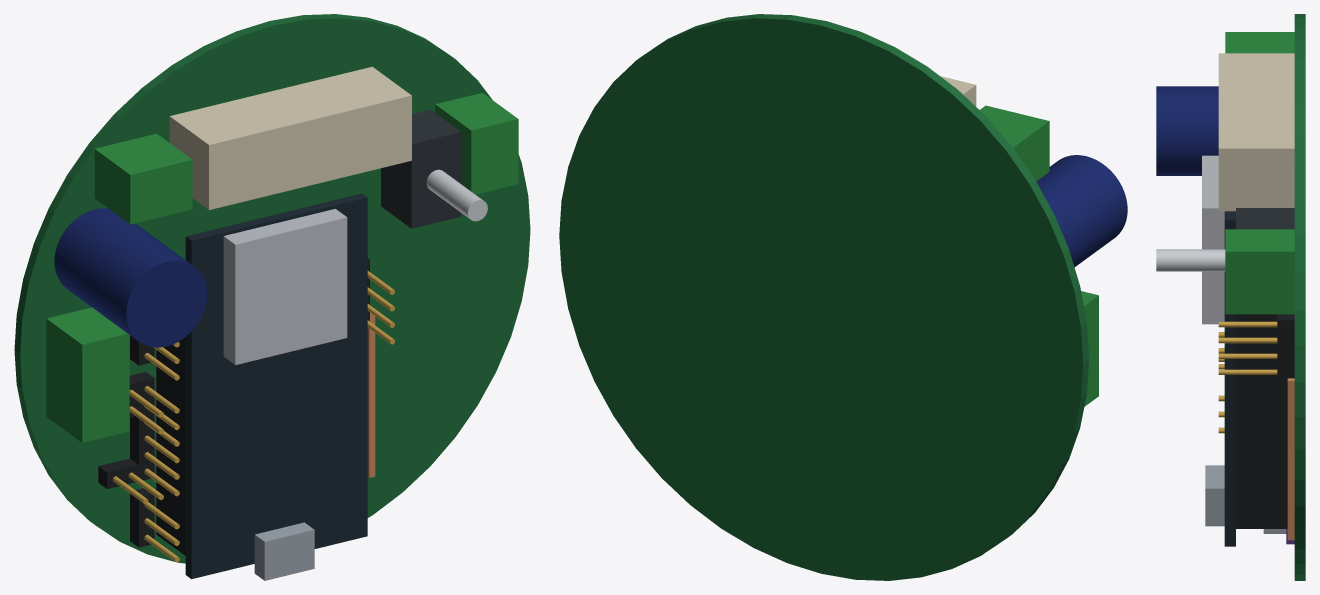
Rendered from thermox_onepcb.obj.
3 views of the same model, side by side, from view 1: azimuth 30°, elevation 25°; view 2: azimuth 150°, elevation 25°; view 3: azimuth 270°, elevation 25° (orthographic). The views are drawn at different scales.
Visible parts, largest first — view 1: pcb_board, pcb_esp32_board, pcb_f1, pcb_esp32_module, pcb_c1, pcb_u2, pcb_j2, pcb_sw1, pcb_j1, pcb_esp_socket_a, pcb_esp32_usb, pcb_sw1_lever (+1 smaller); view 2: pcb_board, pcb_c1, pcb_j2, pcb_u2; view 3: pcb_f1, pcb_esp_socket_b, pcb_board, pcb_j1, pcb_c1, pcb_esp32_module, pcb_esp32_board, pcb_sw1_lever, pcb_j2, pcb_jp1, pcb_sw1, pcb_esp32_usb (+8 smaller).
Boxes of the visible parts, x1=… form: pcb_board: x1=14, y1=14, x2=530, y2=563; pcb_esp32_board: x1=185, y1=193, x2=367, y2=579; pcb_f1: x1=169, y1=66, x2=411, y2=209; pcb_esp32_module: x1=223, y1=209, x2=347, y2=364; pcb_c1: x1=54, y1=208, x2=207, y2=347; pcb_u2: x1=46, y1=307, x2=129, y2=442; pcb_j2: x1=94, y1=133, x2=192, y2=224; pcb_sw1: x1=381, y1=109, x2=461, y2=228; pcb_j1: x1=435, y1=93, x2=518, y2=194; pcb_esp_socket_a: x1=156, y1=337, x2=185, y2=555; pcb_esp32_usb: x1=254, y1=522, x2=314, y2=580; pcb_sw1_lever: x1=426, y1=169, x2=487, y2=221; pcb_board: x1=559, y1=14, x2=1088, y2=580; pcb_c1: x1=1036, y1=155, x2=1127, y2=267; pcb_j2: x1=980, y1=105, x2=1049, y2=181; pcb_u2: x1=1081, y1=291, x2=1098, y2=406; pcb_f1: x1=1218, y1=53, x2=1294, y2=211; pcb_esp_socket_b: x1=1236, y1=314, x2=1287, y2=528; pcb_board: x1=1294, y1=14, x2=1305, y2=580; pcb_j1: x1=1225, y1=229, x2=1294, y2=314; pcb_c1: x1=1156, y1=86, x2=1218, y2=175; pcb_esp32_module: x1=1202, y1=155, x2=1224, y2=324; pcb_esp32_board: x1=1224, y1=211, x2=1235, y2=546; pcb_sw1_lever: x1=1156, y1=249, x2=1225, y2=271; pcb_j2: x1=1225, y1=32, x2=1294, y2=53; pcb_jp1: x1=1287, y1=378, x2=1294, y2=540; pcb_sw1: x1=1236, y1=208, x2=1294, y2=229; pcb_esp32_usb: x1=1205, y1=465, x2=1224, y2=526.
Size of the model in its own units: 82 by 82 by 21.6.
